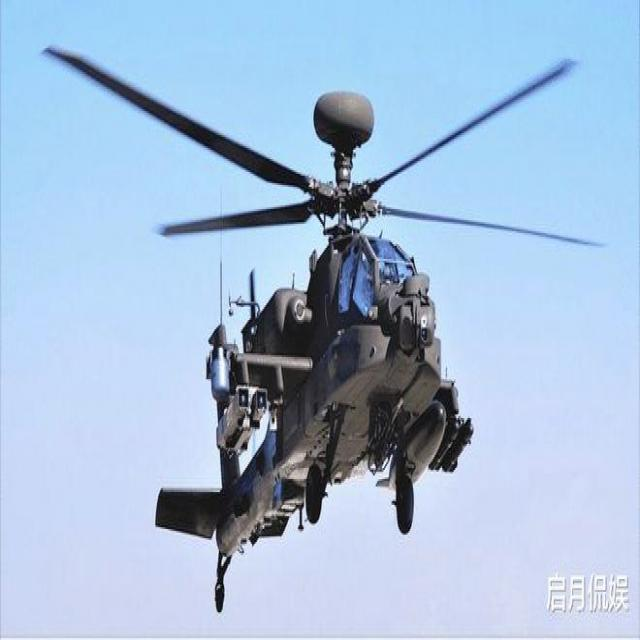MIL_HELO: (29, 20, 588, 629)
